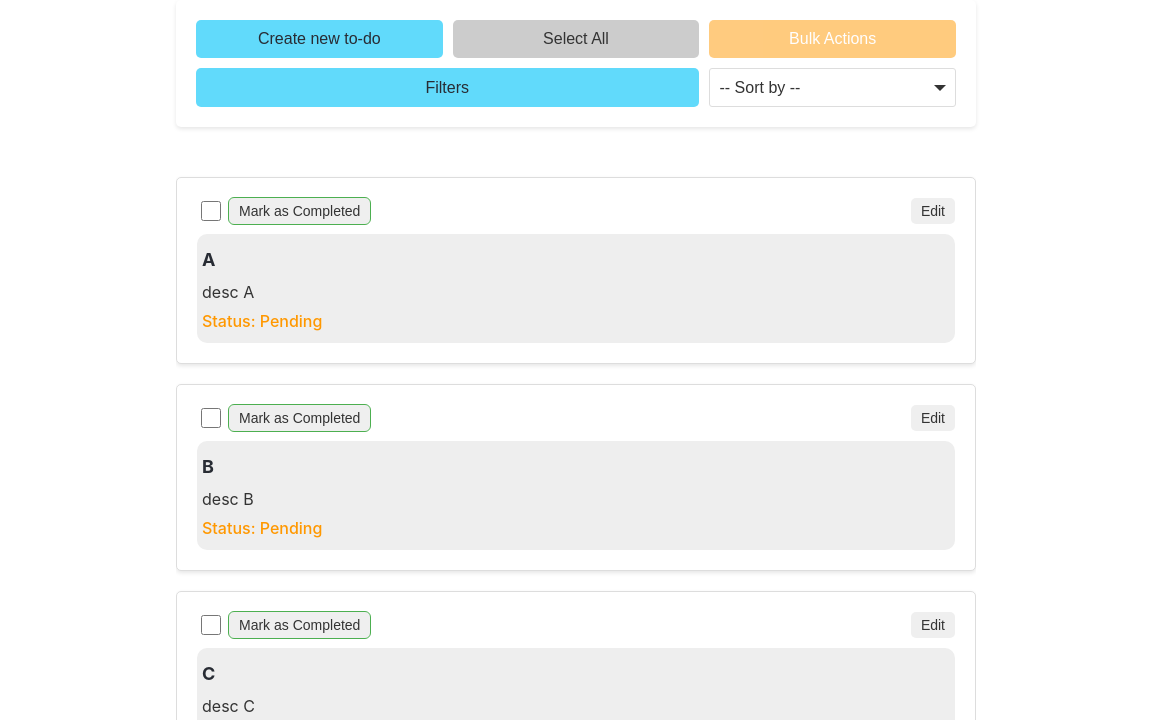
Scenario: TodoList interactions › shows Deselect all button when some but not all items are selected
The width and height of the screenshot is (1152, 720).
Expected: the heading "A" is shown, [202,249,216,270]
Click the 1st checkbox at {"x": 211, "y": 211}, box [201,201,221,221]
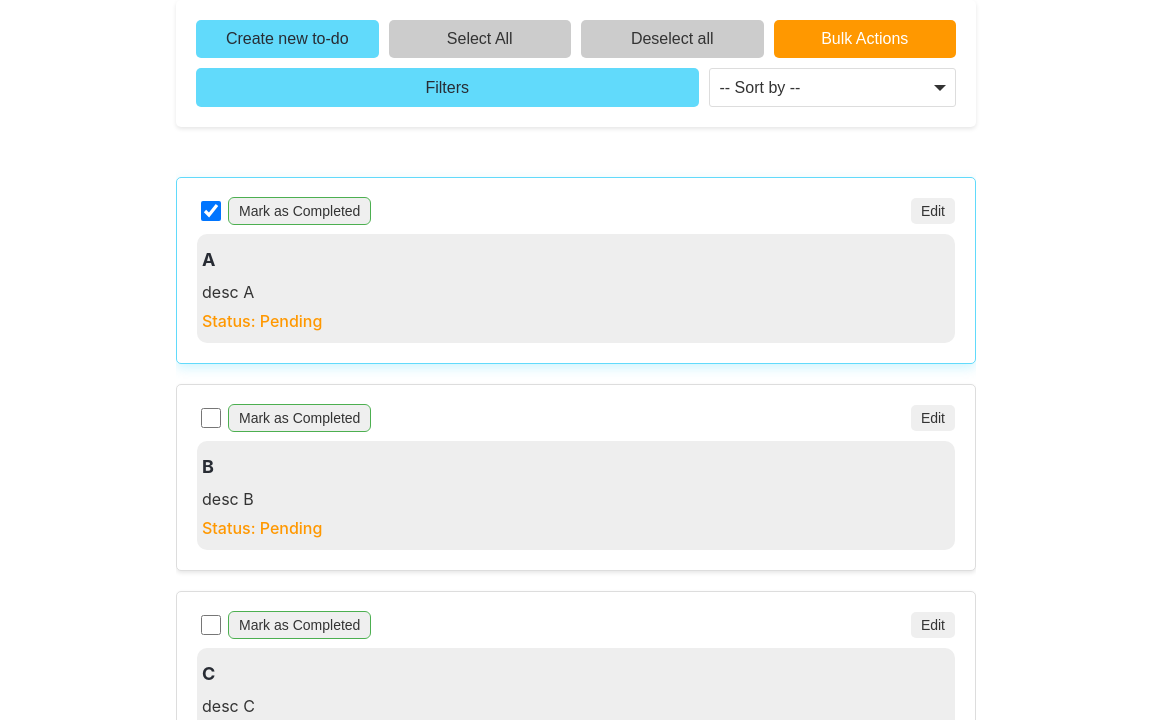
Expected: the button "Deselect all" is shown, [581,20,764,58]
